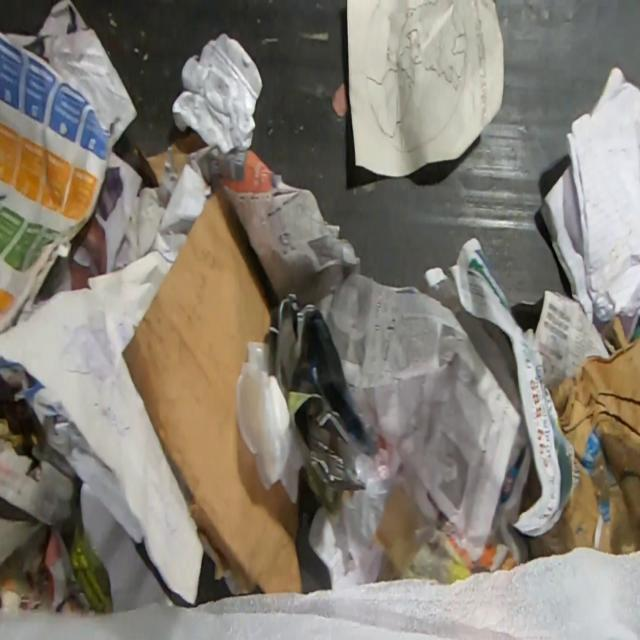cardboard: (121, 185, 304, 597), (526, 313, 640, 560)
soft_plastic: (236, 343, 311, 504)
